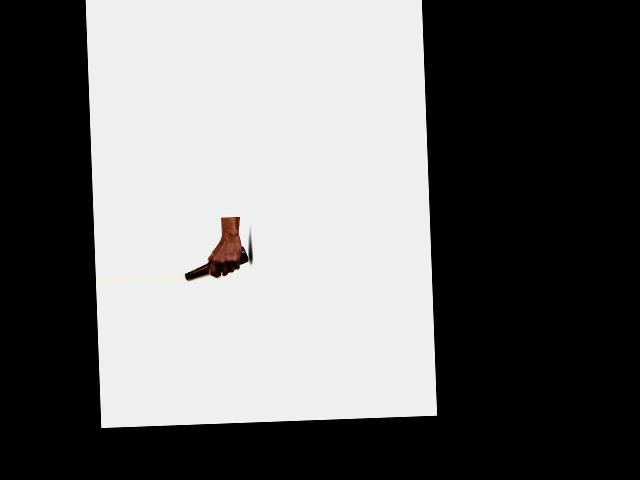beer: (184, 246, 250, 280)
